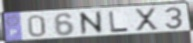0: (26, 14, 48, 39)
3: (162, 6, 185, 31)
6: (53, 11, 76, 38)
L: (107, 11, 130, 34)
N: (77, 9, 106, 36)
X: (133, 7, 160, 32)
